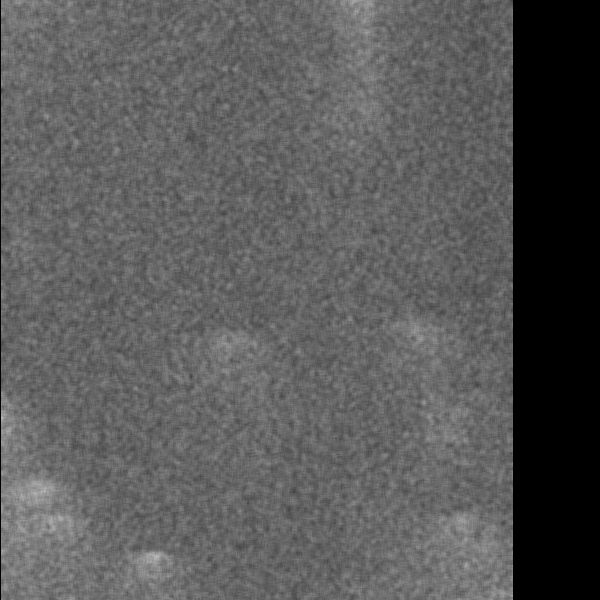spark: (4, 473, 64, 572), (441, 504, 475, 546), (132, 550, 177, 575), (211, 326, 242, 355)
